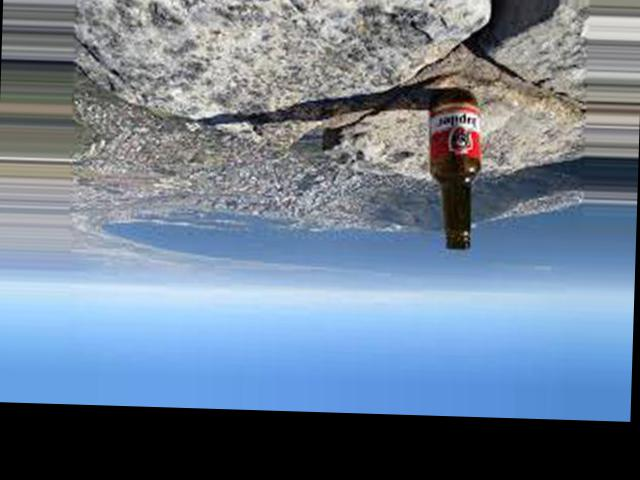beer: (425, 93, 483, 251)
